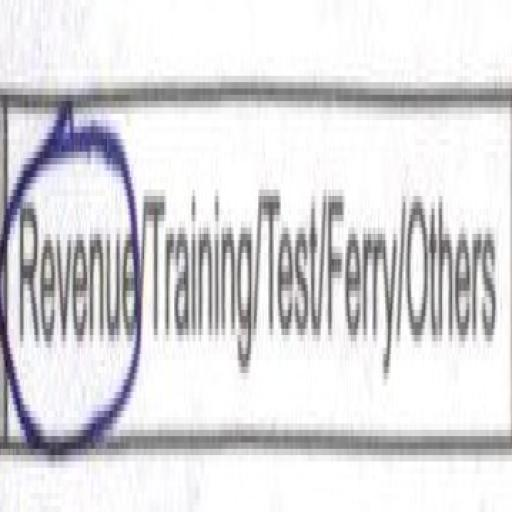check: (0, 62, 141, 454)
